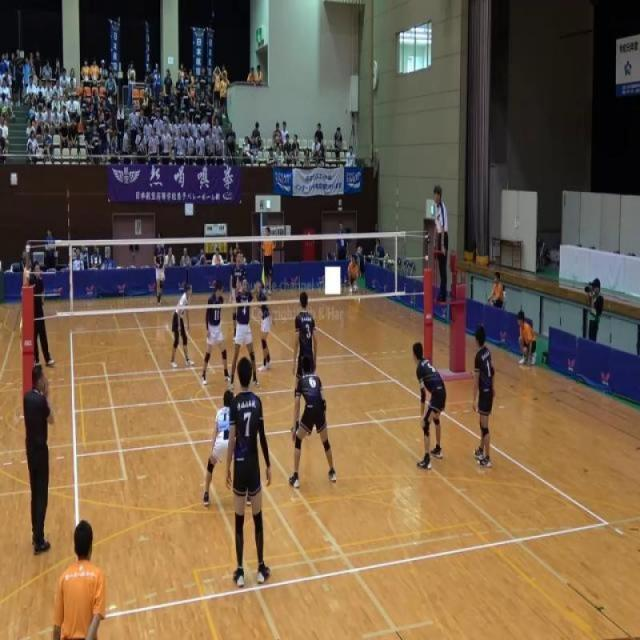volleyball: (158, 271, 166, 283), (353, 284, 358, 292)
